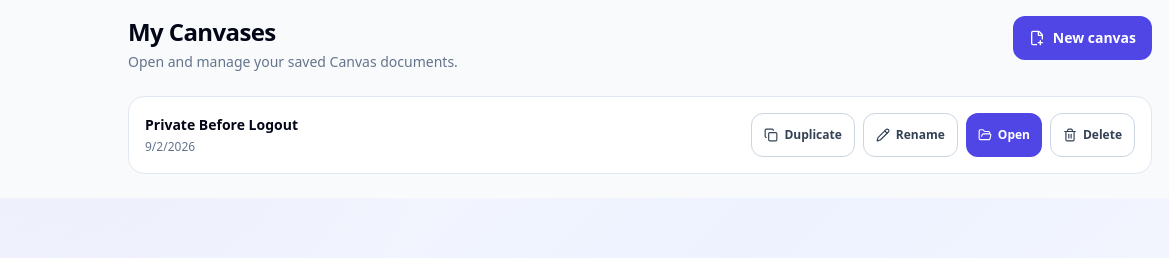
Test: CreatorCanvasLibraryPageContent › fences a delayed duplicate after logout
Click the button "Duplicate".
click(803, 135)  # box left=751, top=113, right=855, bottom=157
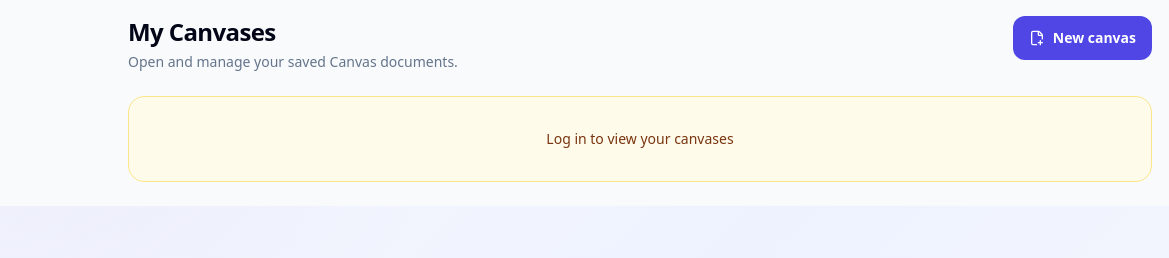
Now the text "Private Before Logout" is gone
